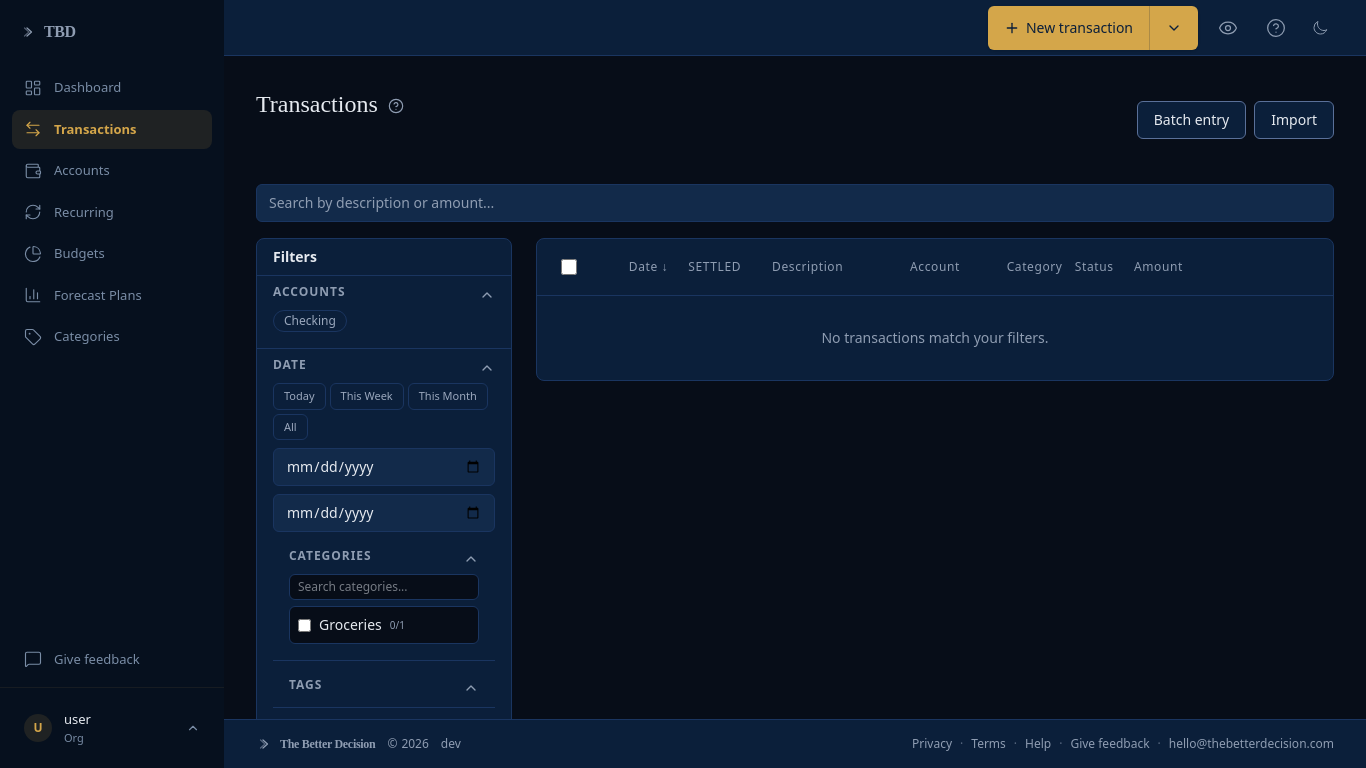
Scenario: TransactionsPage - persisted sort and filters (item 6) › Reset filters and sort button appears when sort differs from default and clears persistence on click
The width and height of the screenshot is (1366, 768).
What coordinates should you click on to do the following:
click the button "Description"
I would click on:
 (808, 267)
Its box is [752,251,863,283].
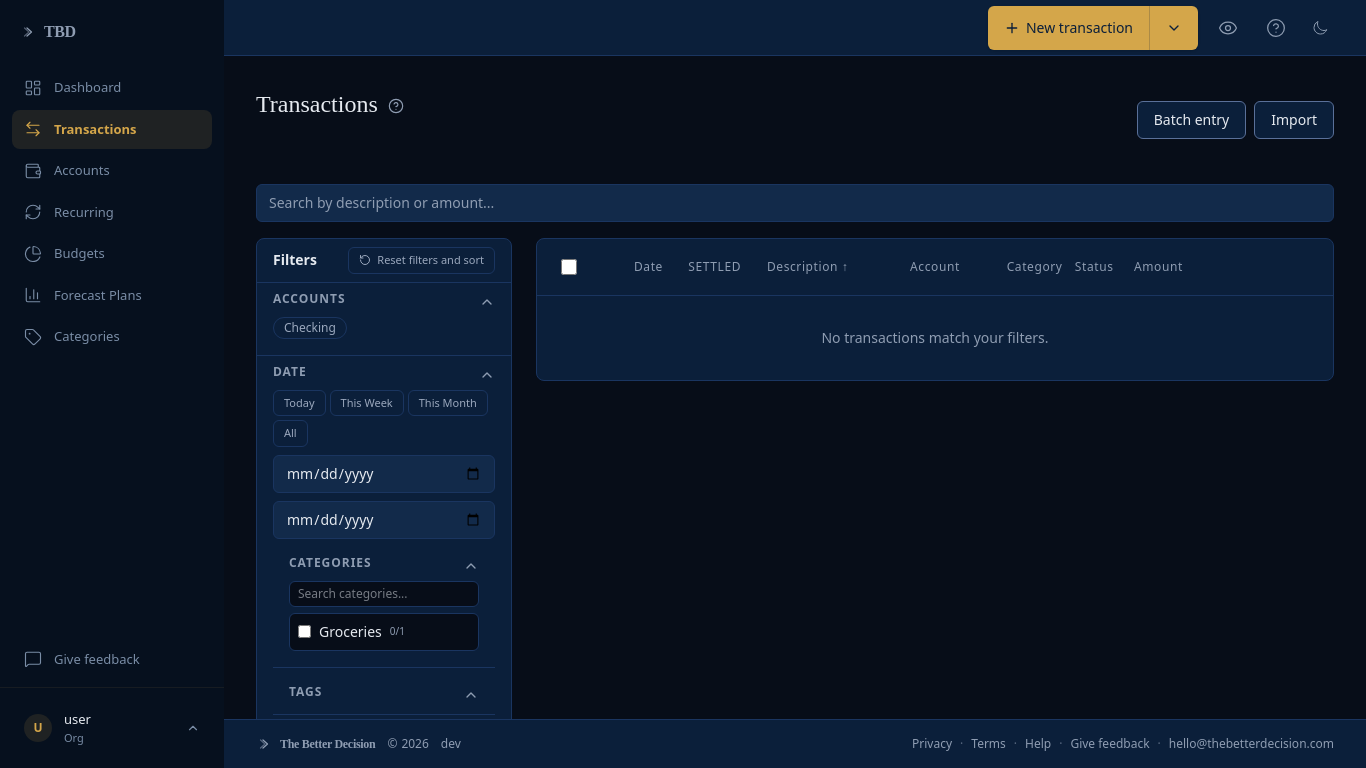
expect the button with test id "reset-sort-filters" is shown: met
What coordinates should you click on to do the following:
click the button with test id "reset-sort-filters"
I would click on:
 (422, 260)
Its box is [348,247,495,274].
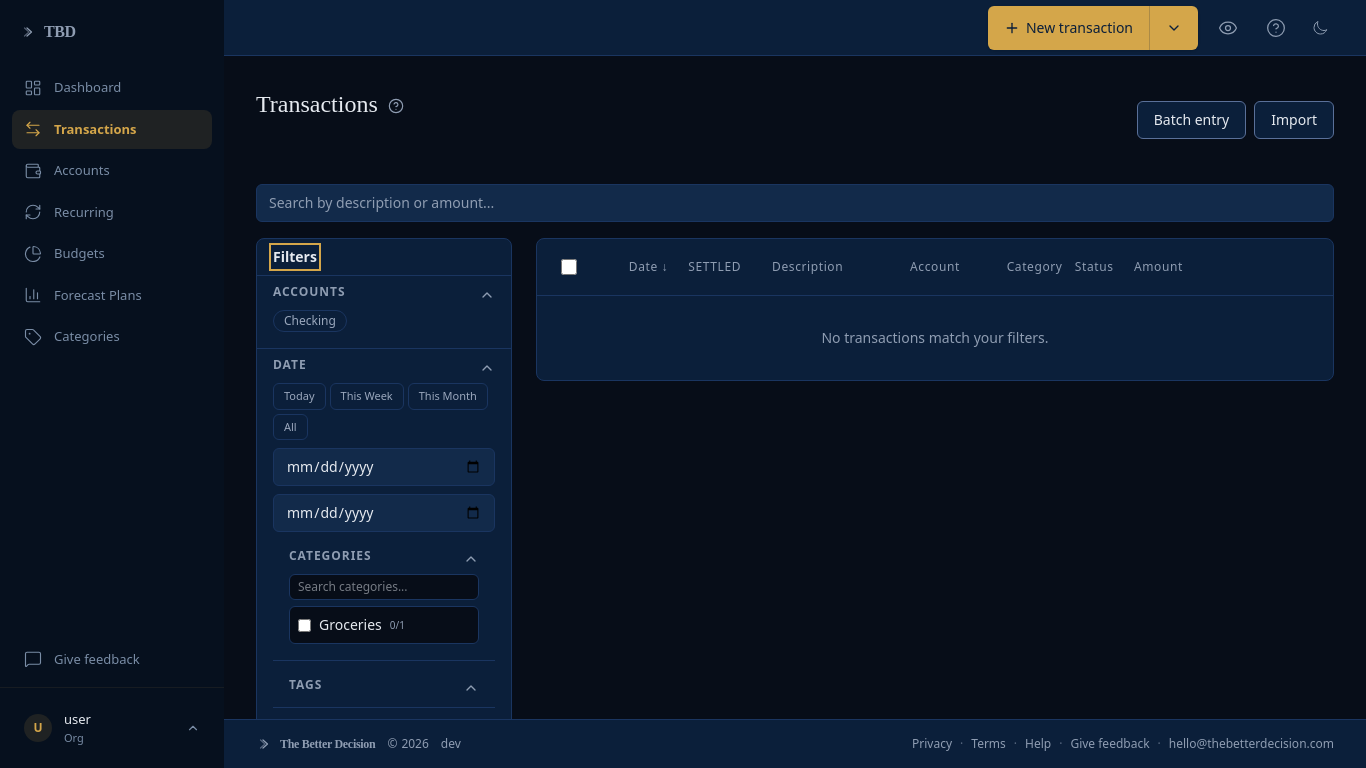
expect the button "Description" is shown: met, box [752,251,863,283]
expect the button with test id "reset-sort-filters" is gone: met
